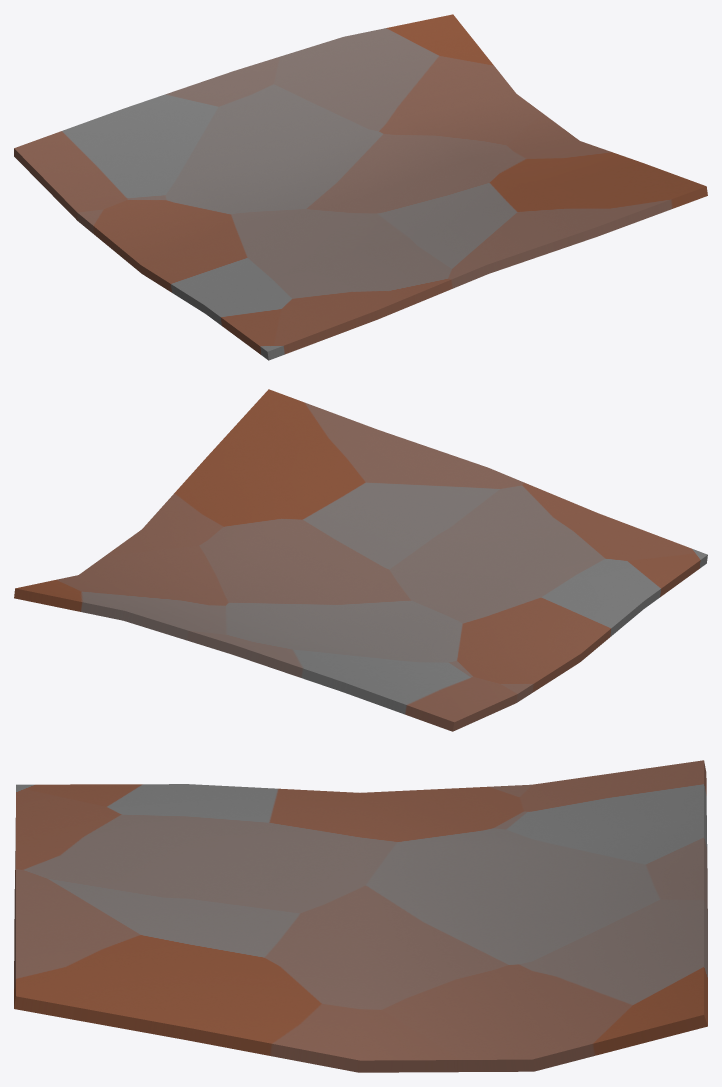
The model's file is MetalOxidado4.fbx.
The picture shows the model from 3 angles, top to bottom: view 1: azimuth 30°, elevation 25°; view 2: azimuth 150°, elevation 25°; view 3: azimuth 270°, elevation 25°; orthographic projection. The views are drawn at different scales.
Visible parts, largest first — view 1: Metal oxidado.003; view 2: Metal oxidado.003; view 3: Metal oxidado.003.
Part boxes in pixels (x1,y1,x2,y2): Metal oxidado.003: (14,14,707,360); Metal oxidado.003: (14,389,707,731); Metal oxidado.003: (14,760,707,1072).
Bounding box in the file's own units: 100 × 15.99 × 101.
Materials: 1 (1 with a texture image).
